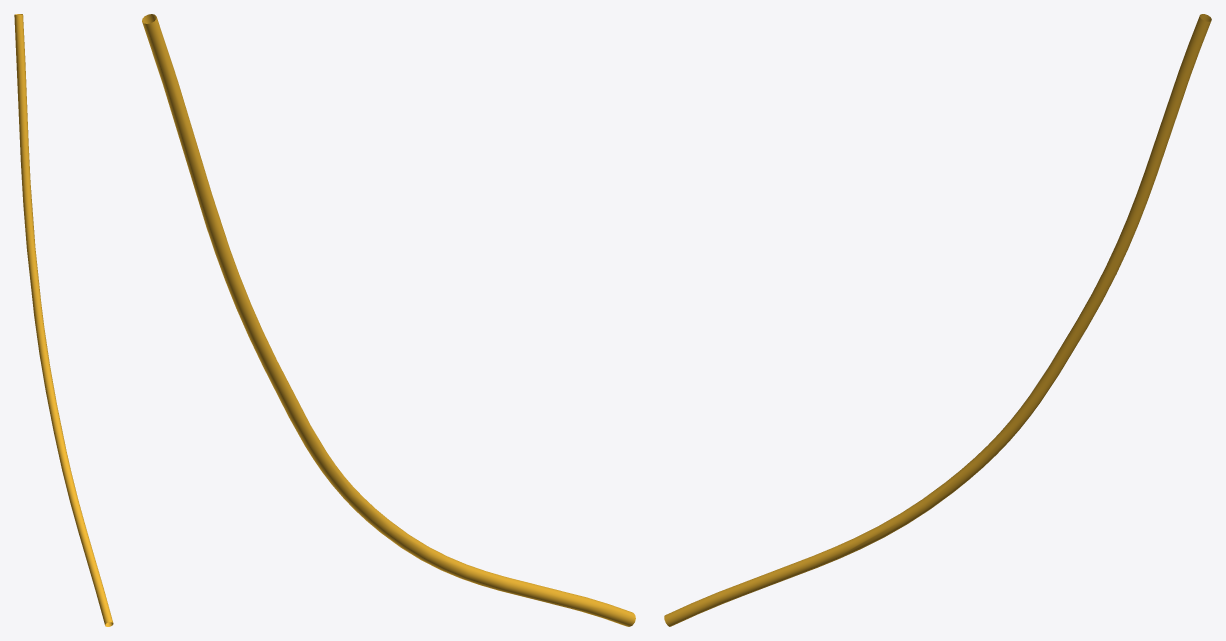
The model's file is nervoso-subclavian-nerve-r.glb.
3 renders of one model, left to right at view 1: azimuth 30°, elevation 25°; view 2: azimuth 150°, elevation 25°; view 3: azimuth 270°, elevation 25°, orthographic. The views are drawn at different scales.
Parts seen in each view (by area): view 1: Subclavian nerve.r; view 2: Subclavian nerve.r; view 3: Subclavian nerve.r.
Part boxes in pixels (x1,y1,x2,y2): Subclavian nerve.r: (14, 14, 113, 626); Subclavian nerve.r: (142, 14, 635, 626); Subclavian nerve.r: (664, 14, 1211, 626).
Size of the model in its own units: 0.013 by 0.0574 by 0.0421.
